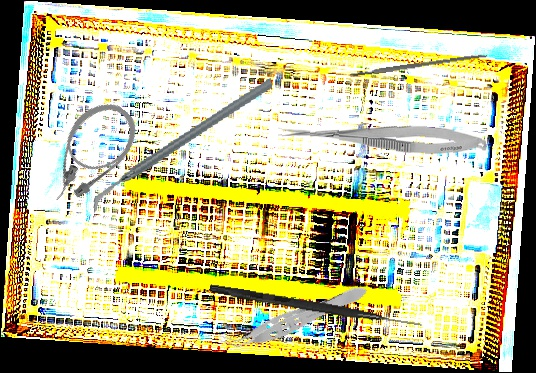Cannula: (27, 90, 149, 216)
Chopper: (76, 76, 289, 215)
Hook Surgical: (208, 284, 424, 329)
Micro Scissor: (277, 120, 487, 157)
Scalpel Handle: (348, 52, 488, 78)
Tissue Forceps: (217, 277, 372, 360)
